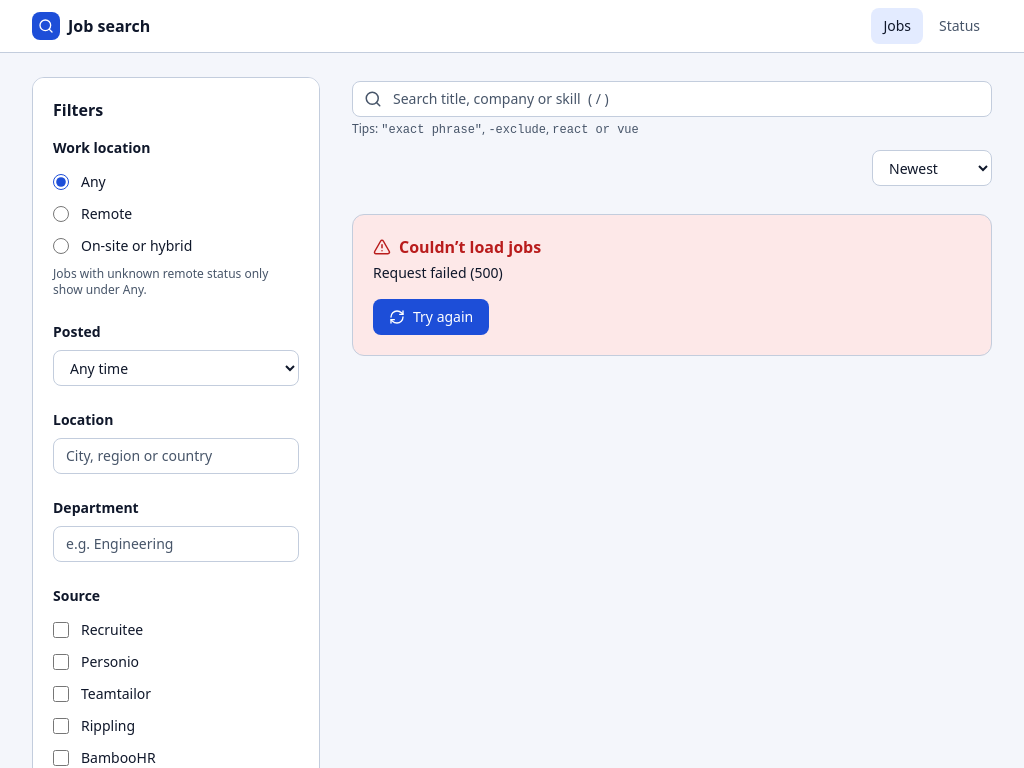
Test: search page › shows a retry for server errors and recovers
Step 1. Click the button "Try again" → {"x": 431, "y": 317}, box [373,299,489,335]
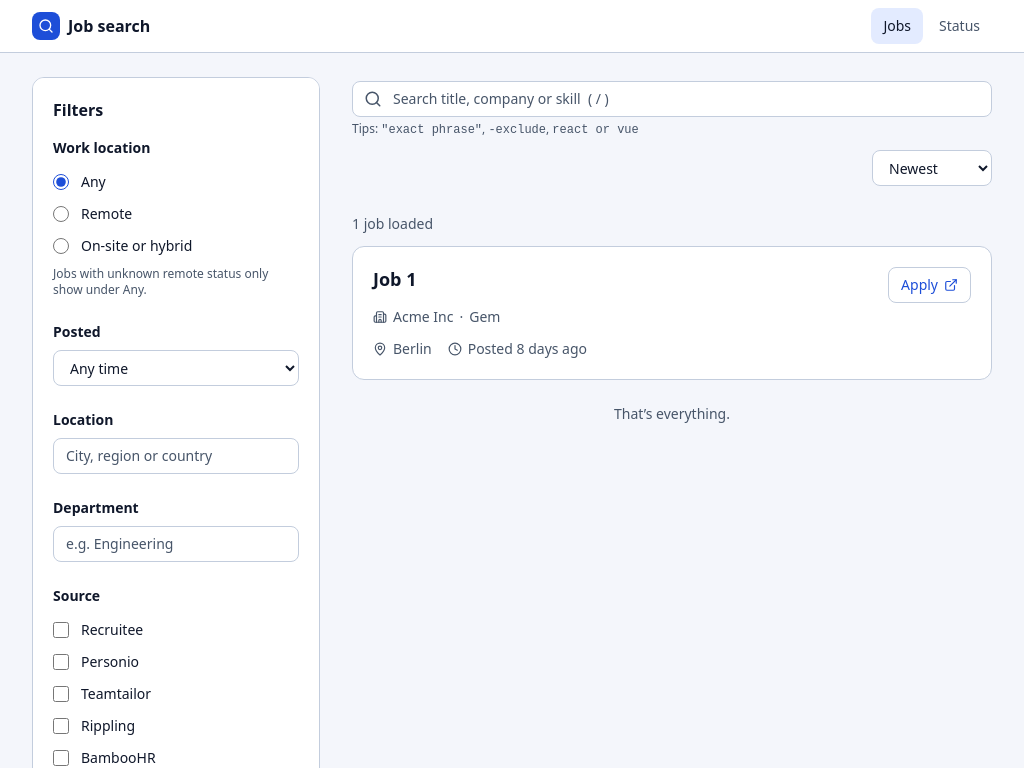
expect the link "Job 1" is shown: met, box [373,267,416,291]
